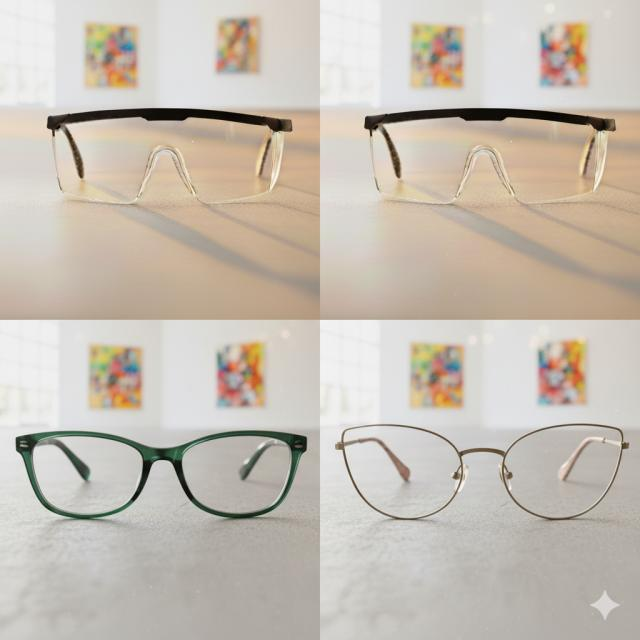oculos-epi: (365, 108, 615, 203), (48, 108, 291, 203)
sem_oculos: (336, 424, 628, 519), (17, 430, 306, 518)
